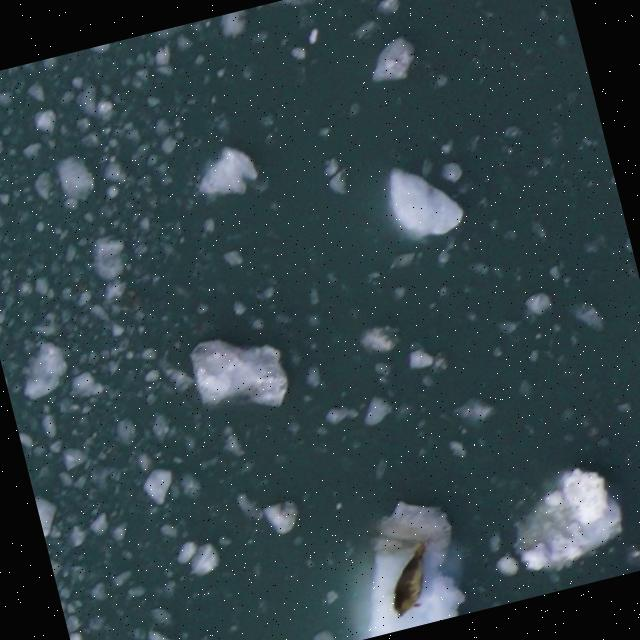seal: (372, 531, 451, 623)
